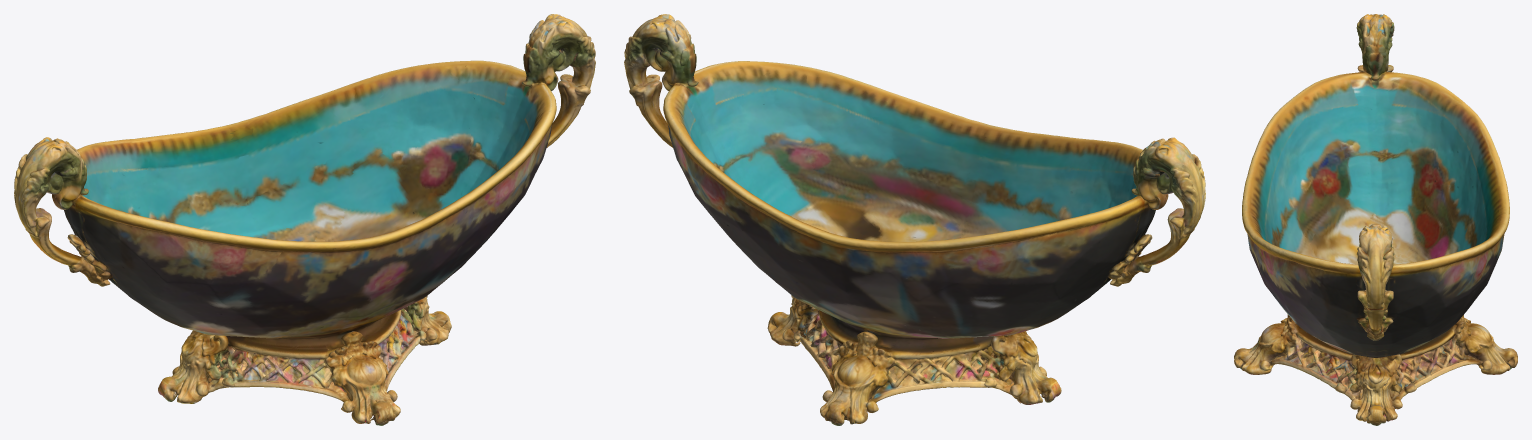
Rendered from Meshy_AI_decorative_ornate_DRO_0221034506_texture.glb.
The picture shows the model from 3 angles, left to right: view 1: azimuth 30°, elevation 25°; view 2: azimuth 150°, elevation 25°; view 3: azimuth 270°, elevation 25°; orthographic projection. The views are drawn at different scales.
Size of the model in its own units: 1.9 by 0.9215 by 0.9475.
1 material, 1 textured.
